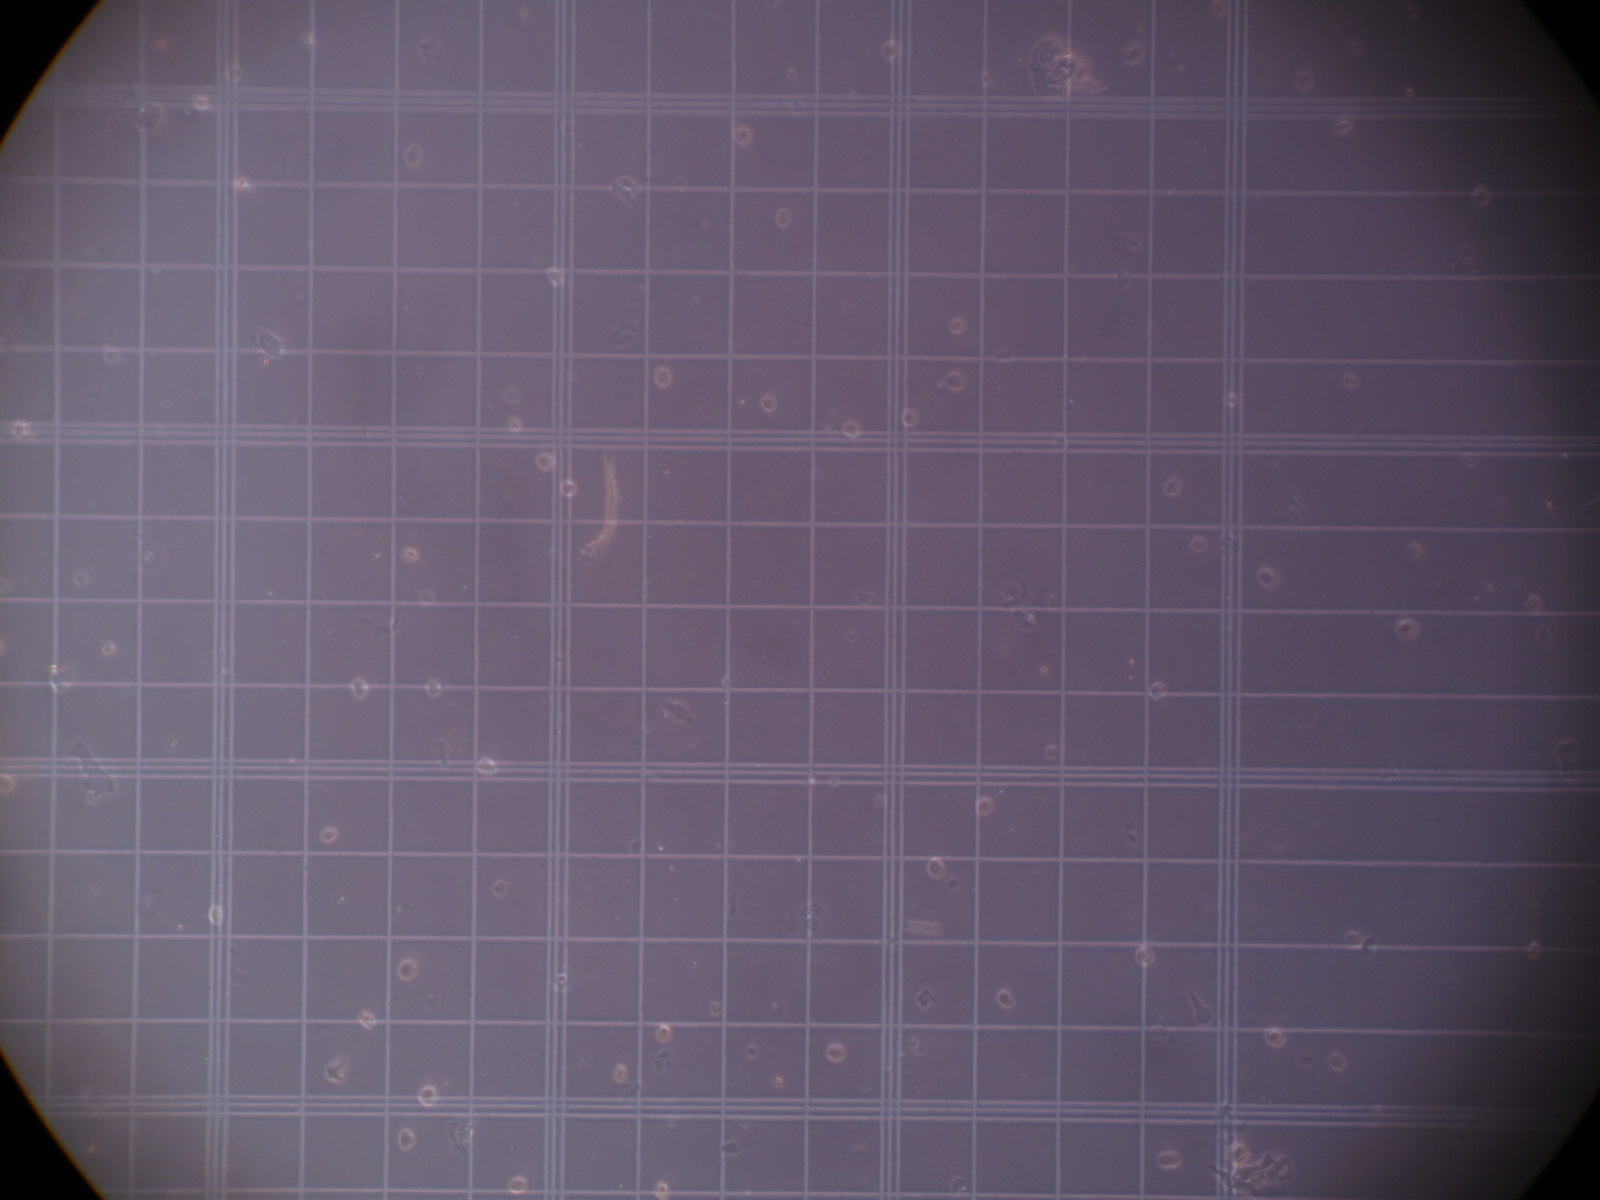cell: (1028, 35, 1105, 98), (905, 921, 946, 938)
hemo: (926, 858, 947, 880), (976, 798, 991, 814)
